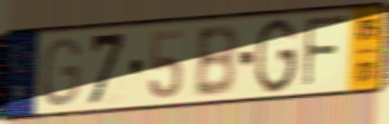5: (147, 26, 186, 101)
7: (85, 30, 128, 108)
B: (192, 22, 239, 100)
F: (301, 13, 350, 92)
G: (252, 16, 300, 96), (39, 36, 83, 109)
